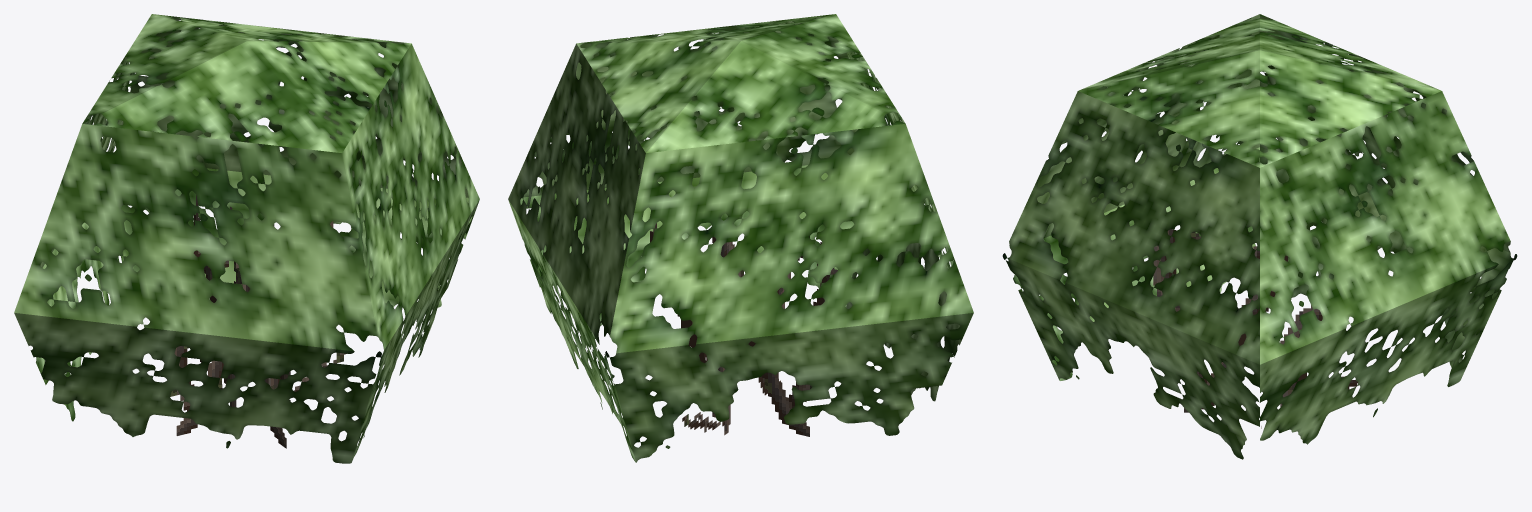
File: bush_end_roots_summer.fbx
3 views of the same model, side by side, from view 1: azimuth 30°, elevation 25°; view 2: azimuth 150°, elevation 25°; view 3: azimuth 270°, elevation 25° (orthographic). The views are drawn at different scales.
Visible parts, largest first — view 1: bush_end_roots_summer; view 2: bush_end_roots_summer; view 3: bush_end_roots_summer.
Part boxes in pixels (x1,y1,x2,y2): bush_end_roots_summer: (14,14,479,463); bush_end_roots_summer: (508,14,973,462); bush_end_roots_summer: (1002,14,1517,459).
Bounding box in the file's own units: 139 × 110 × 139.
Materials: 2 (2 with a texture image).
